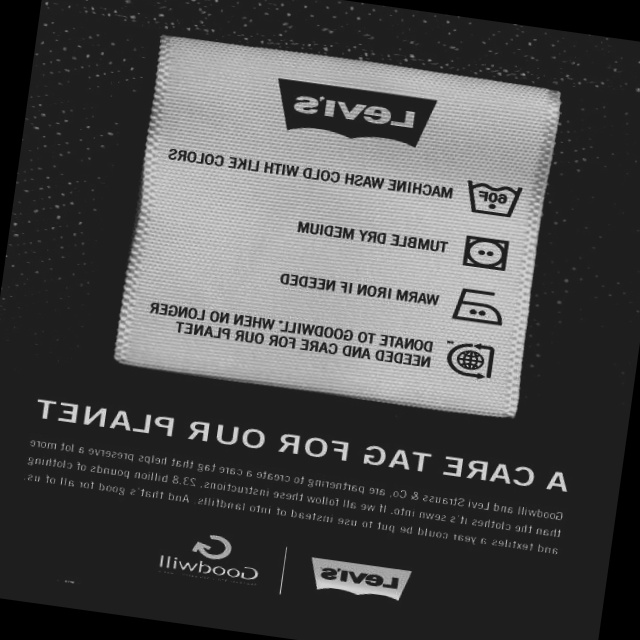30C: (460, 171, 526, 224)
iron_medium: (447, 281, 509, 332)
tumble_dry_medium: (456, 232, 515, 277)
